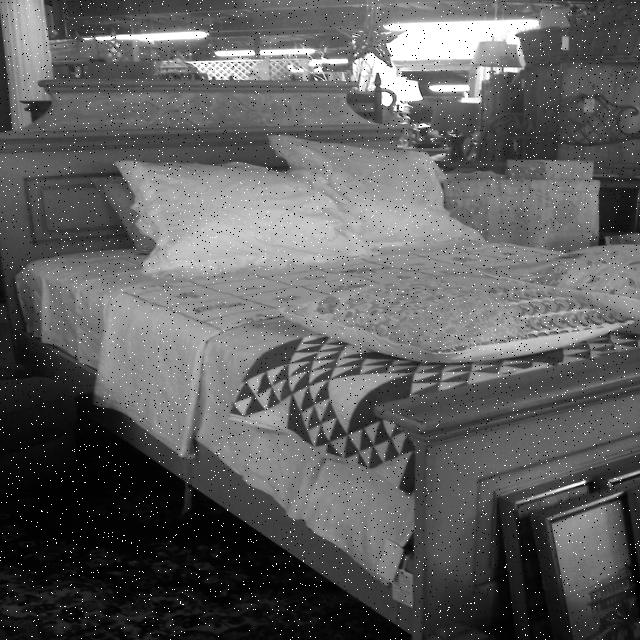bed: (34, 131, 640, 484)
